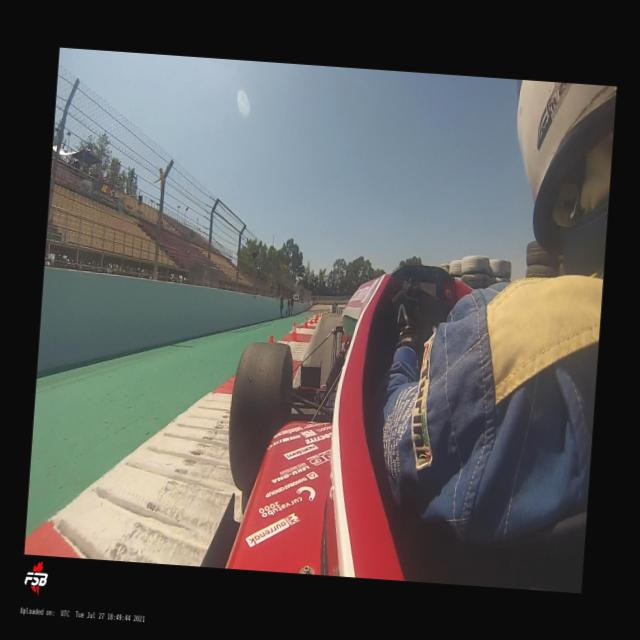orange_cone: (290, 322, 300, 338), (268, 334, 274, 342), (310, 314, 314, 324), (304, 316, 308, 326), (314, 314, 316, 322)
